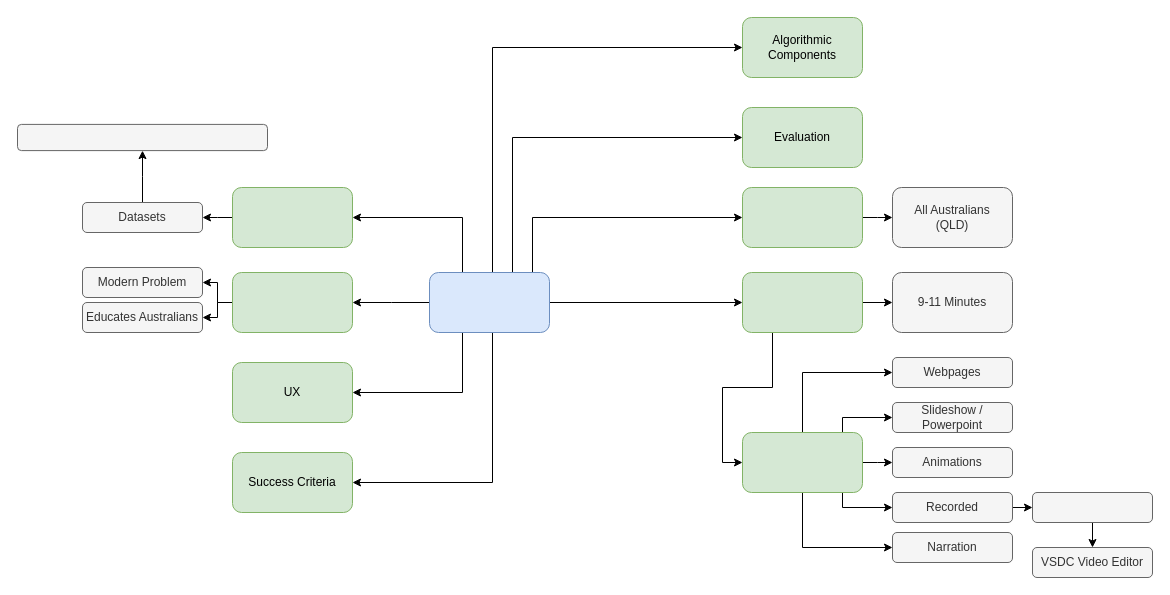
Image size: 1170x595. Some labels were removed from this diagram. The centre of each missing label's shape, as x and y in pixels:
Audience: the point at 802,217
Data Requirements: the point at 292,217
Innovative Solution: the point at 292,302
Mutimodal: the point at 802,462
OBS: the point at 1092,507
Presentation: the point at 802,302
Technical Proposal: the point at 489,302
www.stateoftheenvironment.des.qld.gov.au: the point at 142,137
